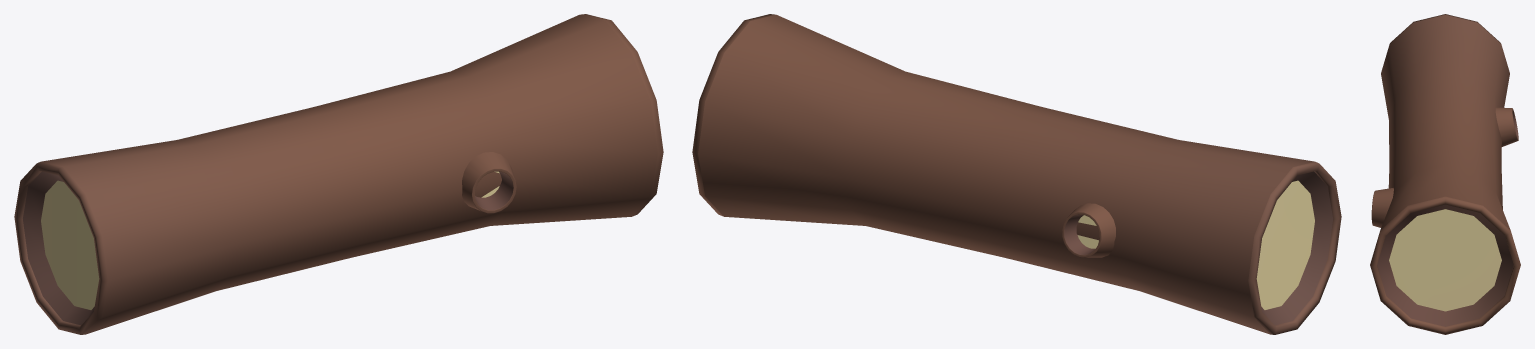
Rendered from Trunk.fbx.
3 views of the same model, side by side, from view 1: azimuth 30°, elevation 25°; view 2: azimuth 150°, elevation 25°; view 3: azimuth 270°, elevation 25° (orthographic). The views are drawn at different scales.
Visible parts, largest first — view 1: Trunk; view 2: Trunk; view 3: Trunk.
Part boxes in pixels (x1=…): Trunk: x1=14, y1=14, x2=663, y2=334; Trunk: x1=692, y1=14, x2=1341, y2=334; Trunk: x1=1370, y1=14, x2=1520, y2=334.
Bounding box in the file's own units: 727 × 238 × 238.
